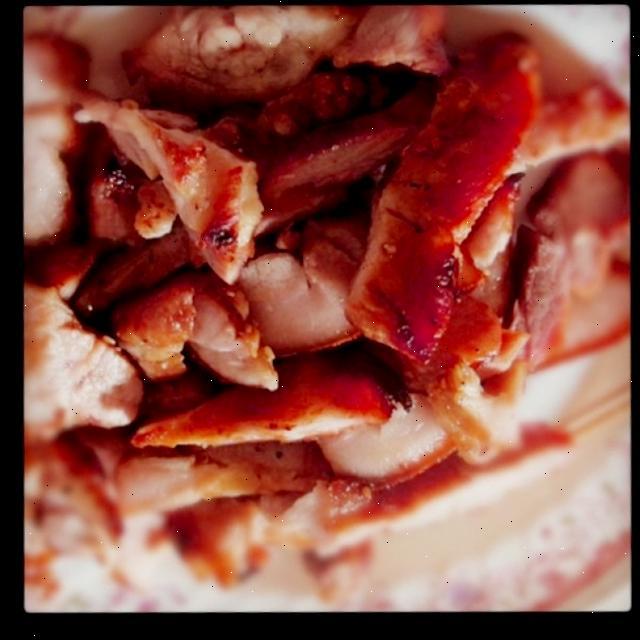猪肉菜式: (3, 0, 636, 614)
